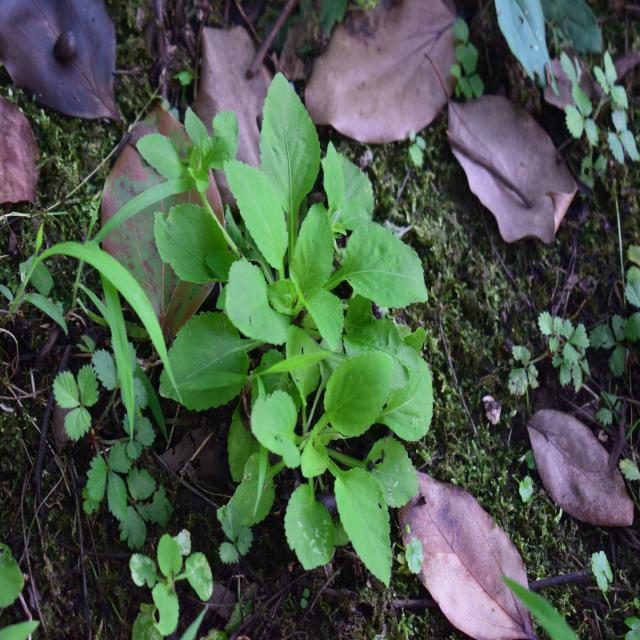Viola: (203, 96, 439, 374), (218, 344, 429, 587)
